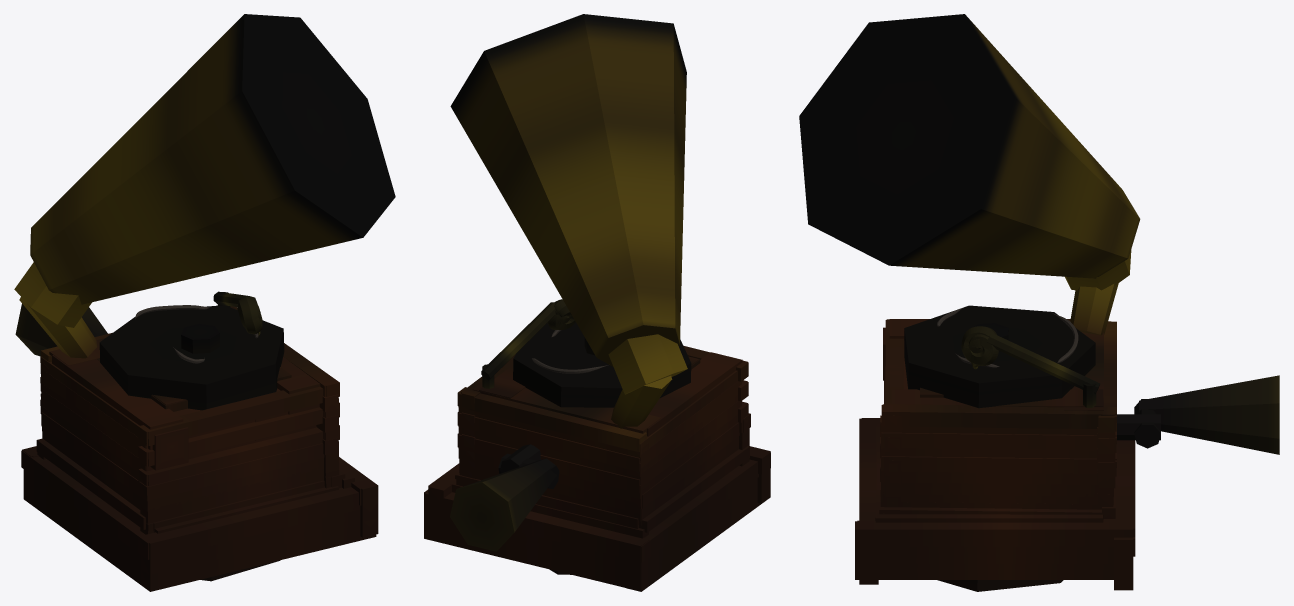
Rendered from grammophone_01_quill.fbx.
3 renders of one model, left to right at view 1: azimuth 30°, elevation 25°; view 2: azimuth 150°, elevation 25°; view 3: azimuth 270°, elevation 25°, orthographic. The views are drawn at different scales.
Parts seen in each view (by area): view 1: NewLayer1; view 2: NewLayer1; view 3: NewLayer1.
Part boxes in pixels (x1,y1,x2,y2): NewLayer1: [14, 14, 395, 591]; NewLayer1: [424, 14, 770, 591]; NewLayer1: [799, 14, 1279, 591].
Size of the model in its own units: 2.73 by 4.72 by 3.7.
